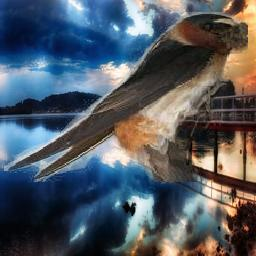Swallow: (4, 12, 248, 182)
